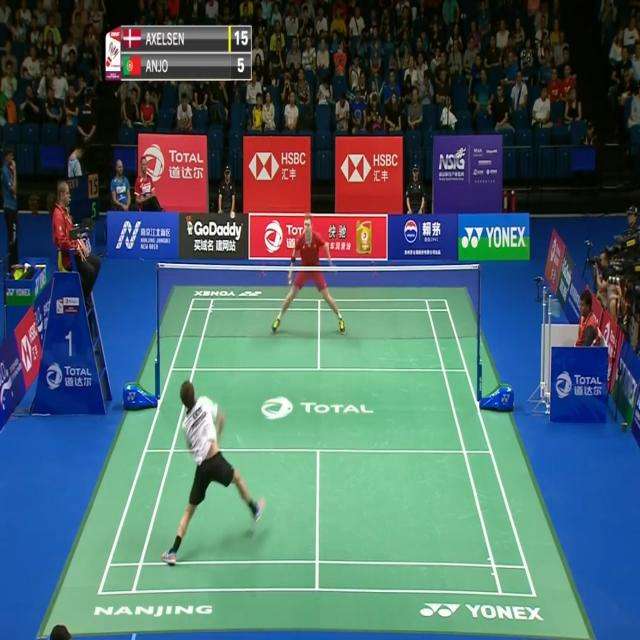Player1: (160, 370, 268, 569)
Player2: (271, 215, 347, 341)
